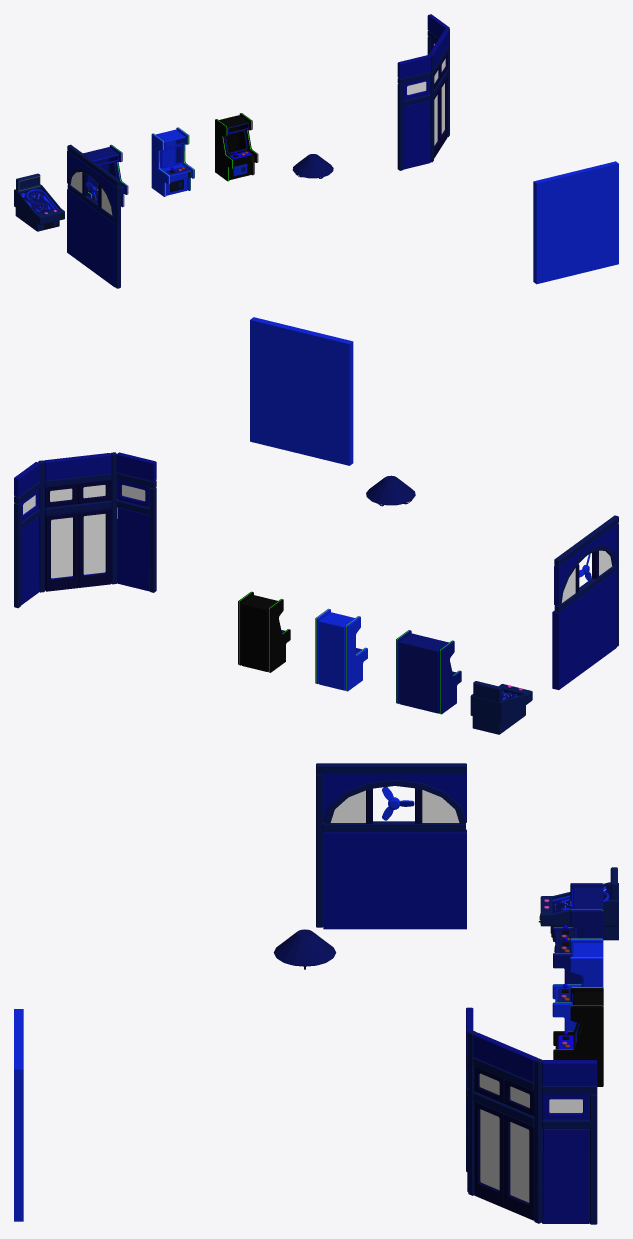
File: Arcade_Texture_MAYA.fbx
The picture shows the model from 3 angles, top to bottom: view 1: azimuth 30°, elevation 25°; view 2: azimuth 150°, elevation 25°; view 3: azimuth 270°, elevation 25°; orthographic projection. The views are drawn at different scales.
Parts seen in each view (by area): view 1: Cube.063, Cylinder, Cube.003, Cube.081, Cube.073, Cube.044, Cube.090, Light.001, Cube.001, Cube.004; view 2: Cube.003, Cube.063, Cylinder, Cube.090, Cube.081, Cube.073, Cube.001, Cube.004, Cube.044, Light.001; view 3: Cylinder, Cube.003, Cube.073, Cube.001, Cube.004, Cube.090, Cube.081, Cube.063, Cube.044, Light.001.
Boxes of the visible parts, <box> form: Cube.063: <box>533,161,618,284</box>; Cylinder: <box>67,144,120,288</box>; Cube.003: <box>397,14,449,170</box>; Cube.081: <box>151,127,194,196</box>; Cube.073: <box>215,113,258,181</box>; Cube.044: <box>14,173,64,231</box>; Cube.090: <box>83,144,128,207</box>; Light.001: <box>292,154,333,178</box>; Cube.001: <box>440,76,447,148</box>; Cube.004: <box>434,87,440,158</box>; Cube.003: <box>14,452,156,608</box>; Cube.063: <box>250,317,353,465</box>; Cylinder: <box>552,515,618,689</box>; Cube.090: <box>396,630,461,714</box>; Cube.081: <box>315,608,367,691</box>; Cube.073: <box>238,591,290,672</box>; Cube.001: <box>45,511,78,591</box>; Cube.004: <box>78,508,111,587</box>; Cube.044: <box>470,681,532,734</box>; Light.001: <box>366,475,415,506</box>; Cylinder: <box>316,763,466,929</box>; Cube.003: <box>466,1007,597,1224</box>; Cube.073: <box>553,987,603,1086</box>; Cube.001: <box>504,1114,534,1220</box>; Cube.004: <box>474,1101,504,1207</box>; Cube.090: <box>553,883,603,986</box>; Cube.081: <box>552,938,602,1030</box>; Cube.063: <box>14,1009,23,1221</box>; Cube.044: <box>540,867,618,940</box>; Light.001: <box>273,929,336,969</box>.
Bounding box in the file's own units: 1494 × 375 × 1262.
